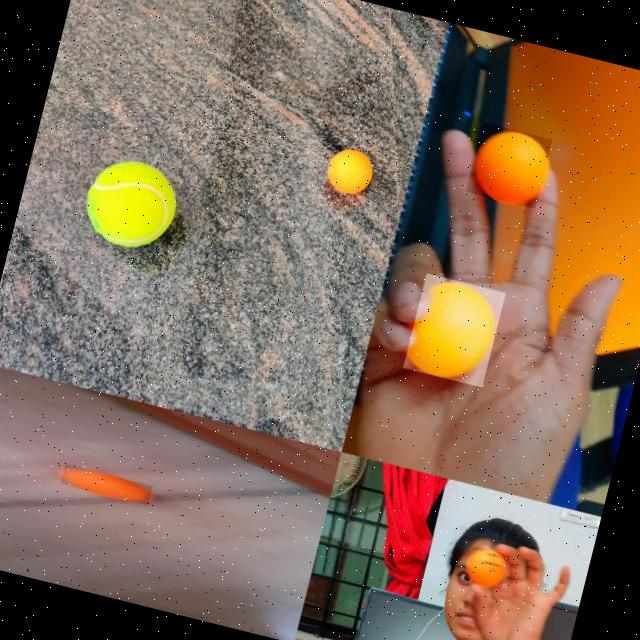ping-pong-ball: (402, 273, 505, 388), (463, 121, 553, 211), (59, 463, 152, 505), (324, 144, 378, 196), (464, 546, 509, 590)
